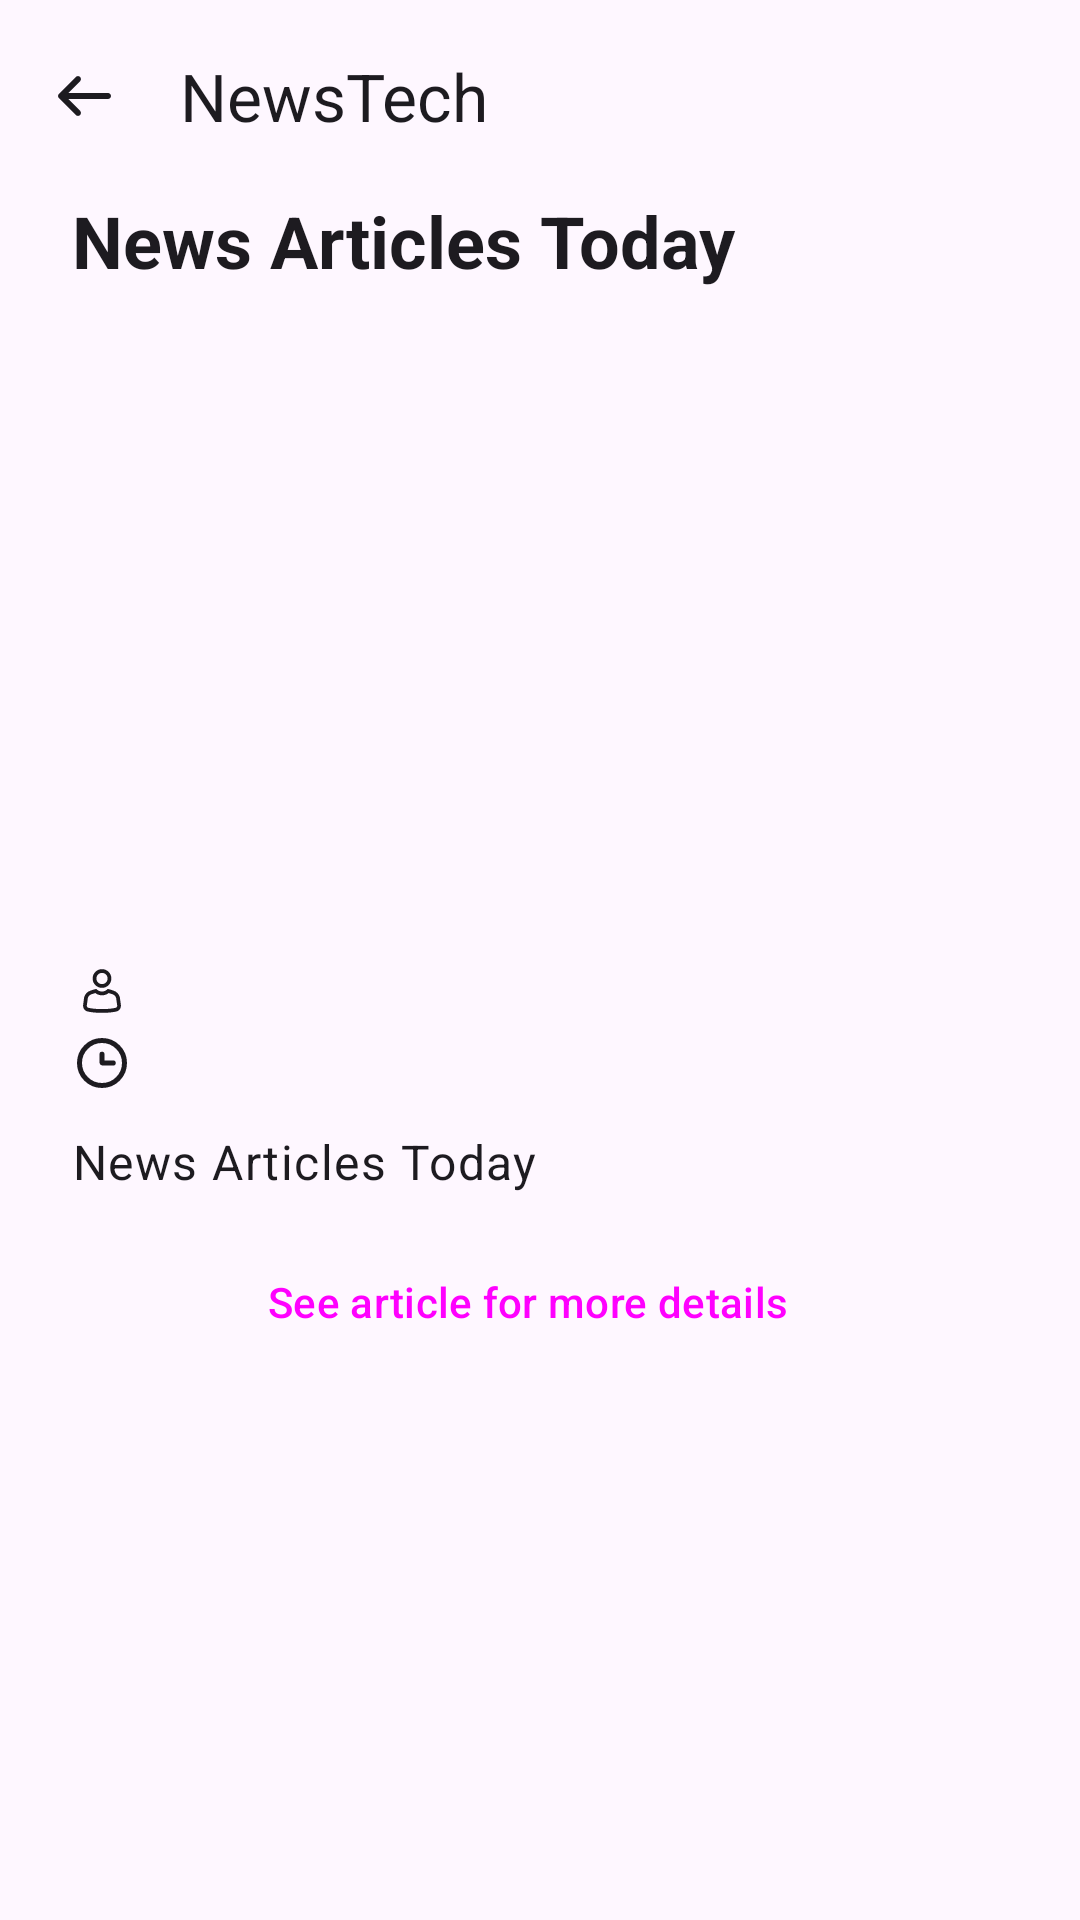

Screen size 1080w x 1920h. Icon name, then its center in pixels as (x=x, y=y):
person: (x=102, y=991)
time: (x=102, y=1063)
